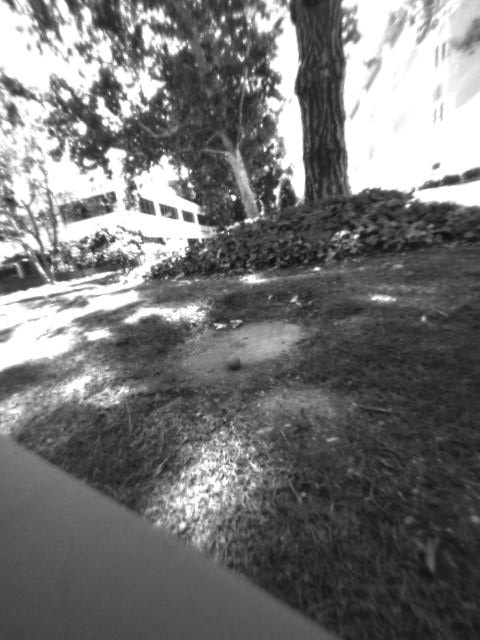dogtoy: (217, 346, 253, 377)
